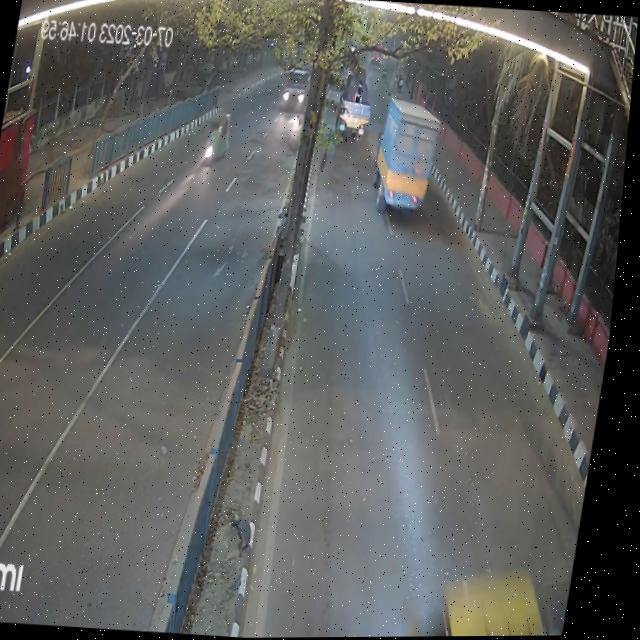cng: (190, 107, 236, 177)
